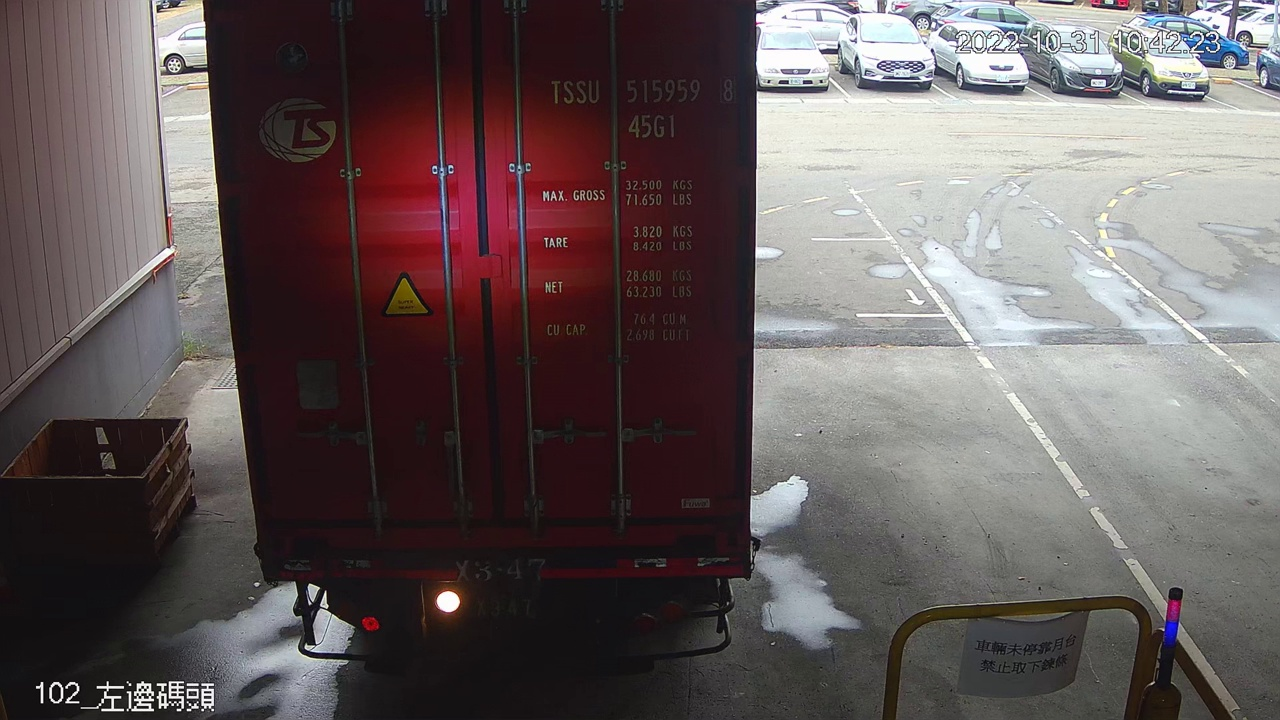container: (541, 66, 743, 144)
